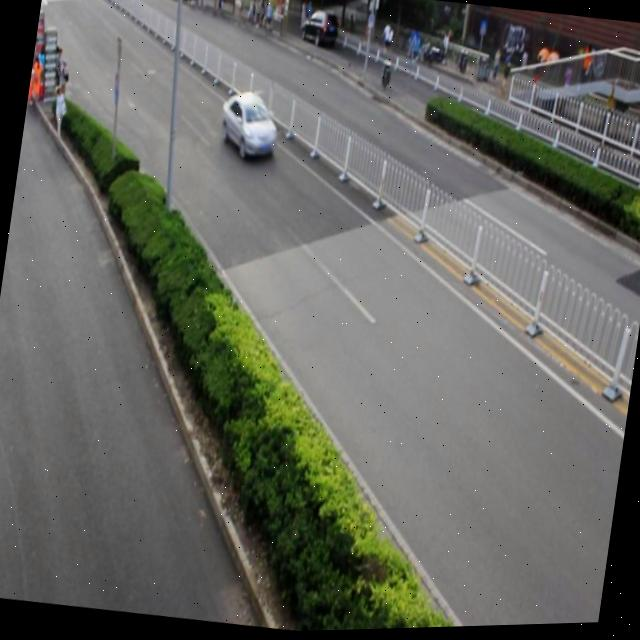car: (216, 88, 284, 166), (300, 11, 340, 52)
